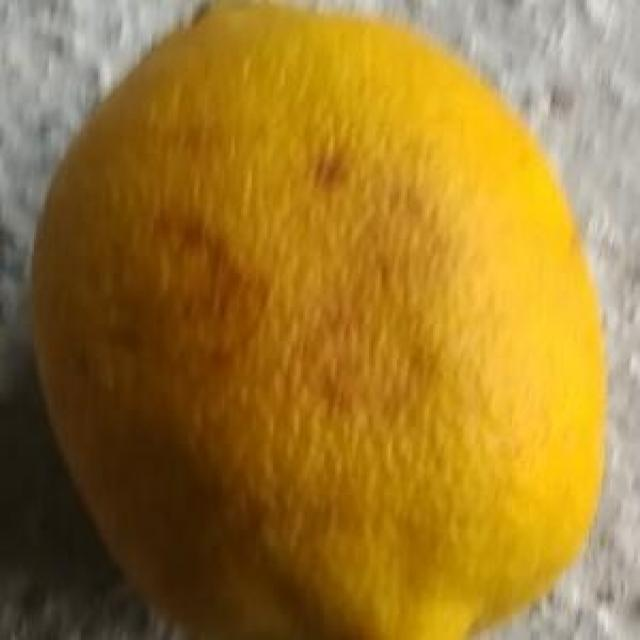lemon: (23, 6, 608, 640)
